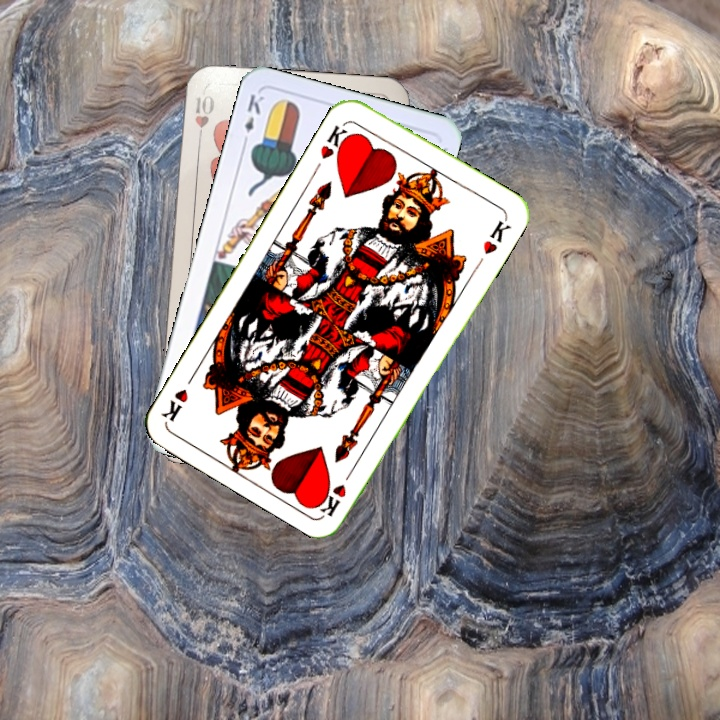EK: (238, 90, 267, 148)
H10: (191, 90, 216, 147)
HK: (316, 463, 358, 519), (316, 121, 355, 163)
